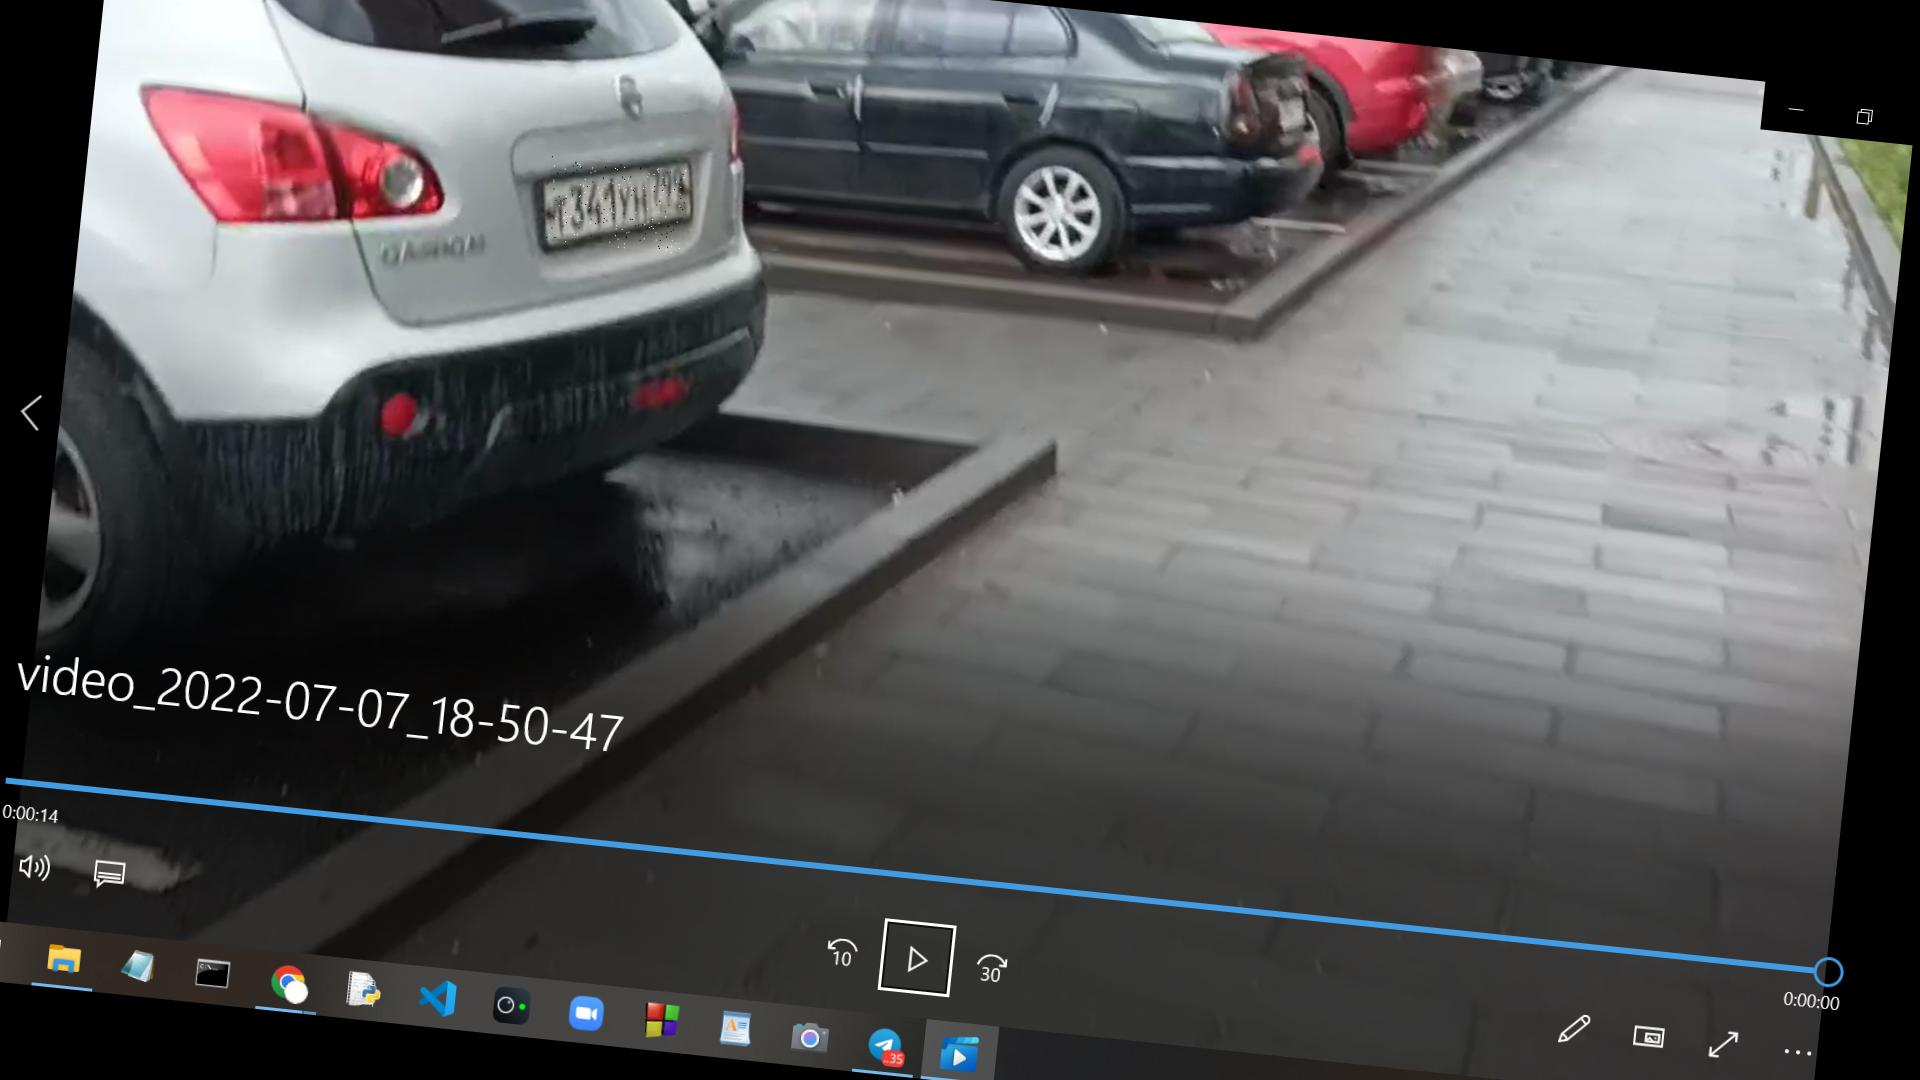plate: (545, 158, 690, 256)
